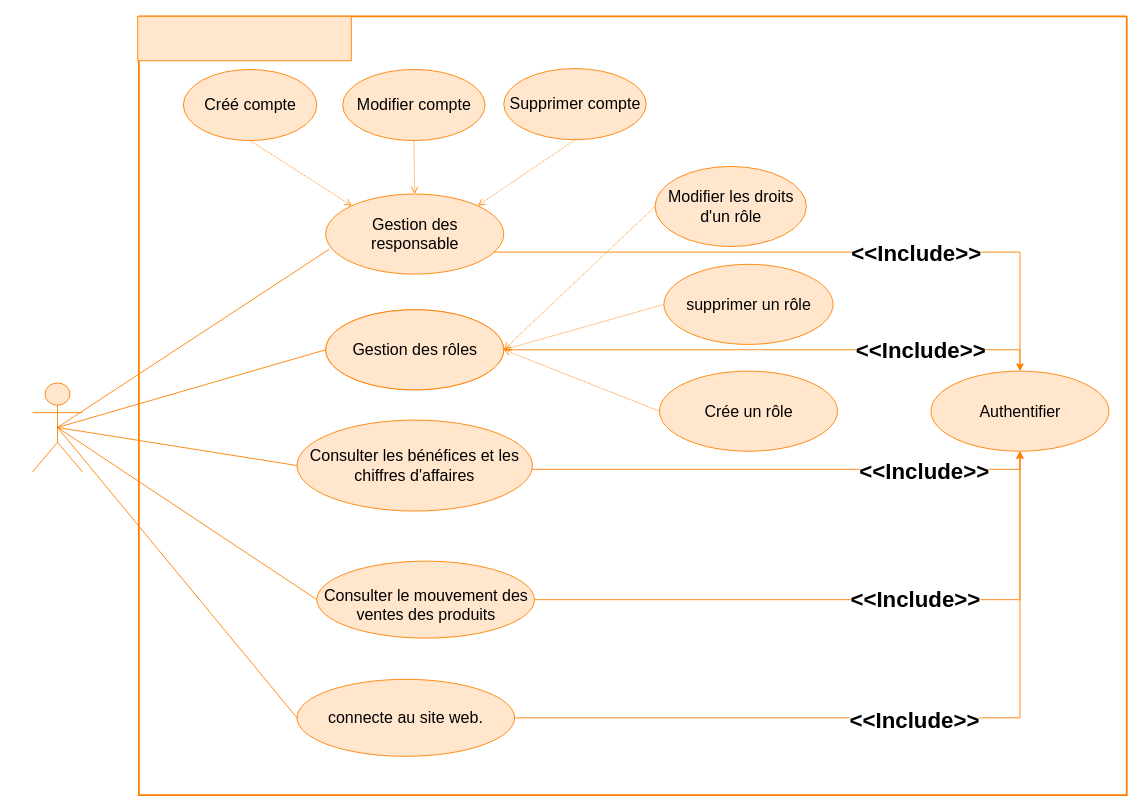
The diagram is 1144 pixels wide and 811 high, and some of its shapes have lost their labels. The centre of each missing label's shape, as x and y in pixels:
logiciel de gestion du stock: [244,38]
Superviseur: [57,427]
